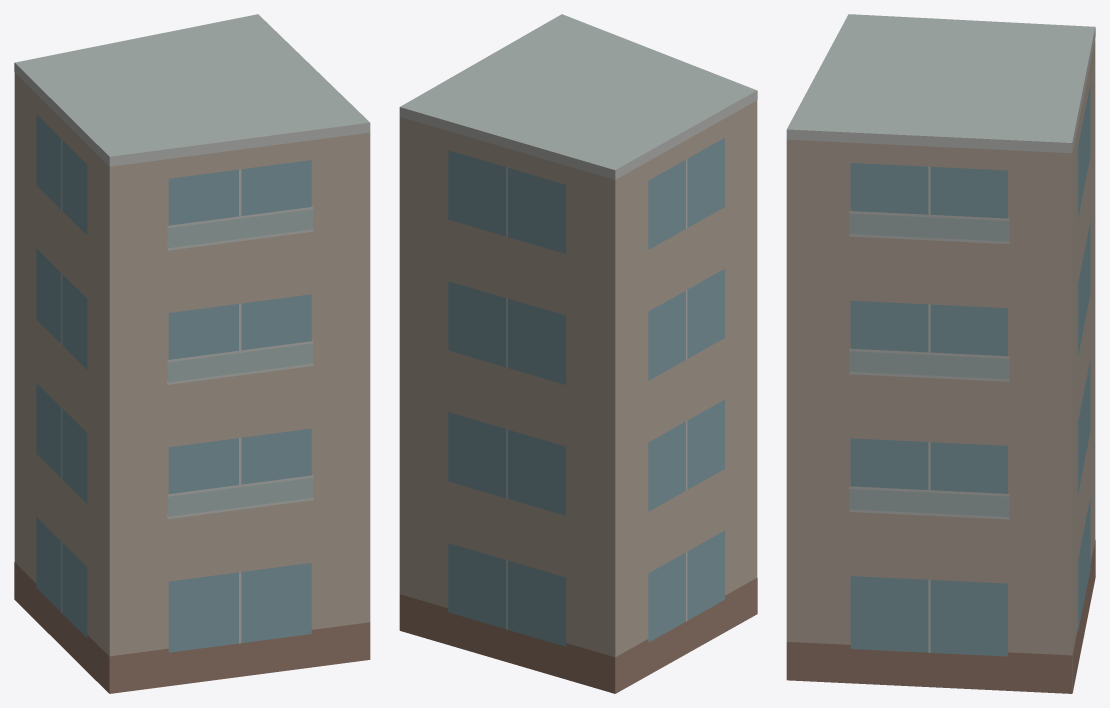
Rendered from survey-upis-32964152.glb.
The picture shows the model from 3 angles, left to right: view 1: azimuth 30°, elevation 25°; view 2: azimuth 150°, elevation 25°; view 3: azimuth 270°, elevation 25°; orthographic projection. The views are drawn at different scales.
Visible parts, largest first — view 1: survey-upis-32964152.tmp; view 2: survey-upis-32964152.tmp; view 3: survey-upis-32964152.tmp.
Part boxes in pixels (x1=…): survey-upis-32964152.tmp: x1=14, y1=14, x2=370, y2=693; survey-upis-32964152.tmp: x1=399, y1=14, x2=757, y2=693; survey-upis-32964152.tmp: x1=786, y1=14, x2=1095, y2=693.
Size of the model in its own units: 6.64 by 13.2 by 6.72.
